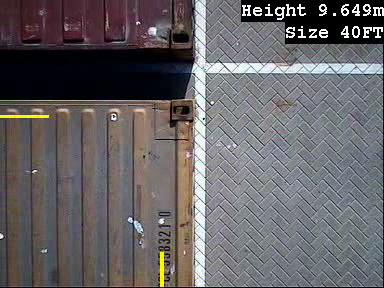groundmarker_2: (187, 1, 251, 103)
